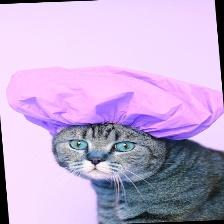kedo: (52, 123, 224, 223)
